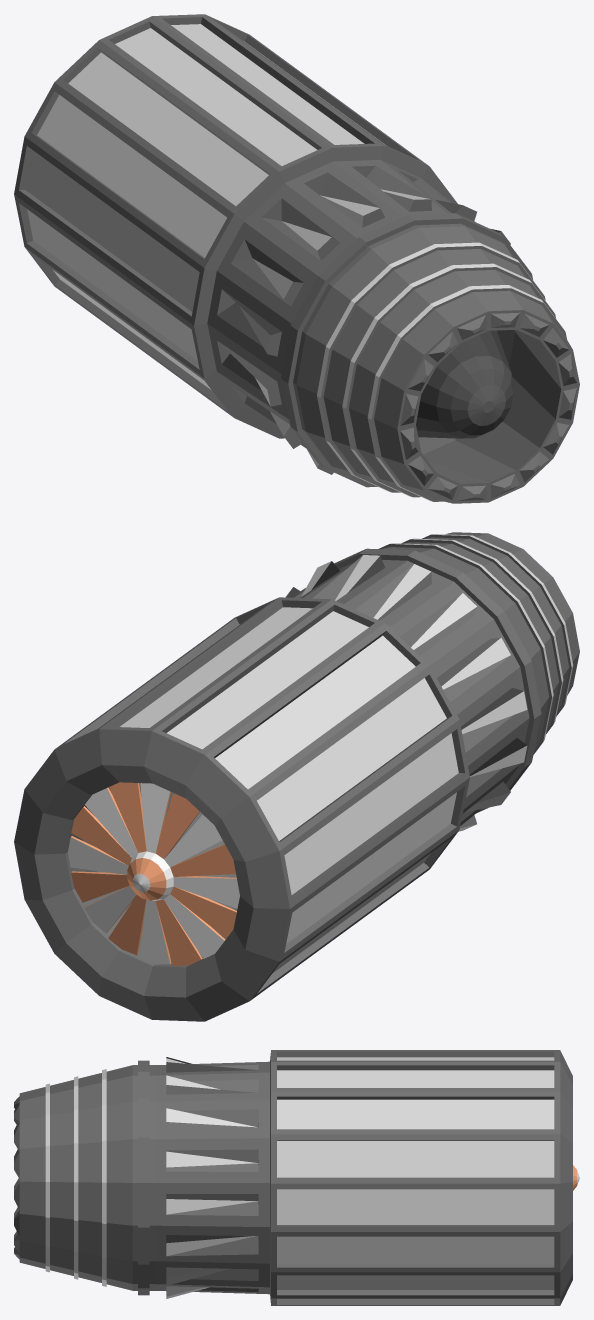
Rendered from engine_v2.fbx.
3 views of the same model, one above another, from view 1: azimuth 30°, elevation 25°; view 2: azimuth 150°, elevation 25°; view 3: azimuth 270°, elevation 25° (orthographic). The views are drawn at different scales.
Visible parts, largest first — view 1: Общая часть.001, Задняя часть.001; view 2: Общая часть.001, Передняя часть.001; view 3: Общая часть.001.
Part boxes in pixels (left/top/right/bottom): Общая часть.001: left=14, top=14, right=579, bottom=503; Задняя часть.001: left=416, top=330, right=514, bottom=438; Общая часть.001: left=14, top=532, right=579, bottom=1021; Передняя часть.001: left=68, top=782, right=239, bottom=965; Общая часть.001: left=14, top=1050, right=572, bottom=1305.
Size of the model in its own units: 2.27 by 2.27 by 5.01.
1 material, 1 textured.
